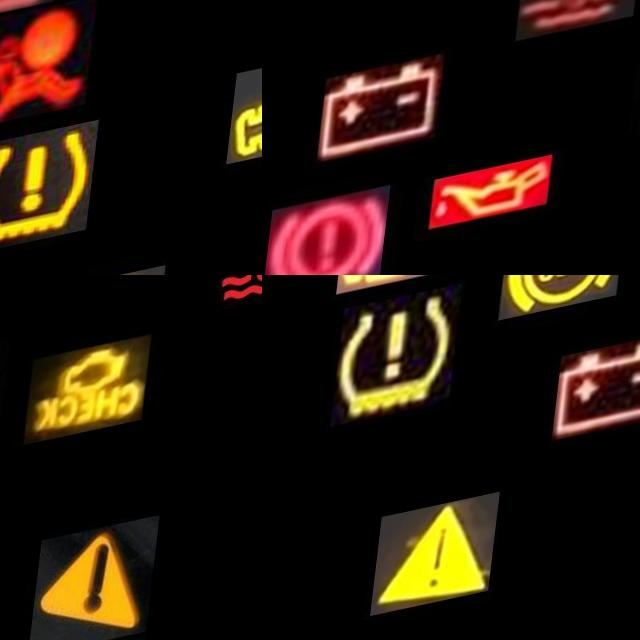Central Warning lamp: (384, 511, 511, 630), (43, 529, 172, 640)
Engine cooling system: (525, 0, 640, 54)
